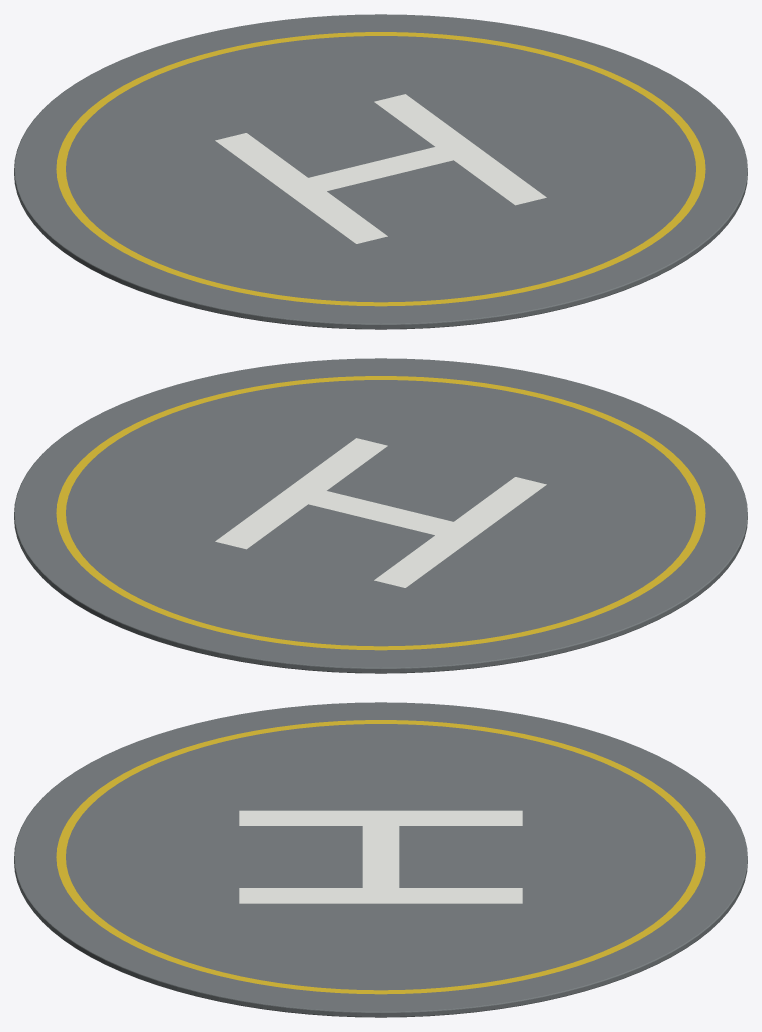
The model's file is helipad.glb.
The picture shows the model from 3 angles, top to bottom: view 1: azimuth 30°, elevation 25°; view 2: azimuth 150°, elevation 25°; view 3: azimuth 270°, elevation 25°; orthographic projection.
Parts seen in each view (by area): view 1: pad_base, paint_ring, paint_H_right, paint_H_left, paint_H_bridge; view 2: pad_base, paint_ring, paint_H_right, paint_H_left, paint_H_bridge; view 3: pad_base, paint_ring, paint_H_left, paint_H_right, paint_H_bridge.
Boxes of the visible parts, x1,y1,x2,y2 form: pad_base: (14,14,747,329); paint_ring: (56,32,705,306); paint_H_right: (374,94,546,205); paint_H_left: (215,133,387,243); paint_H_bridge: (309,147,453,191); pad_base: (14,358,747,673); paint_ring: (56,376,705,650); paint_H_right: (215,438,387,549); paint_H_left: (374,477,546,587); paint_H_bridge: (308,491,452,535); pad_base: (14,702,747,1017); paint_ring: (56,720,705,994); paint_H_left: (239,810,522,825); paint_H_right: (239,888,522,903); paint_H_bridge: (362,826,399,887).
Size of the model in its own units: 14 by 0.121 by 14.
